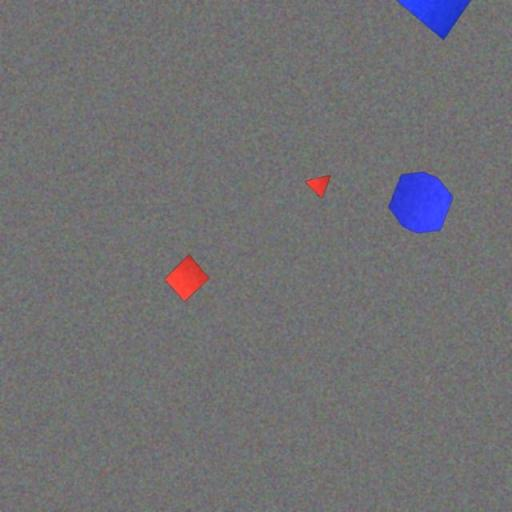BLUE_SQUARE: (394, 0, 480, 41)
RED_SQUARE: (164, 254, 210, 302)
